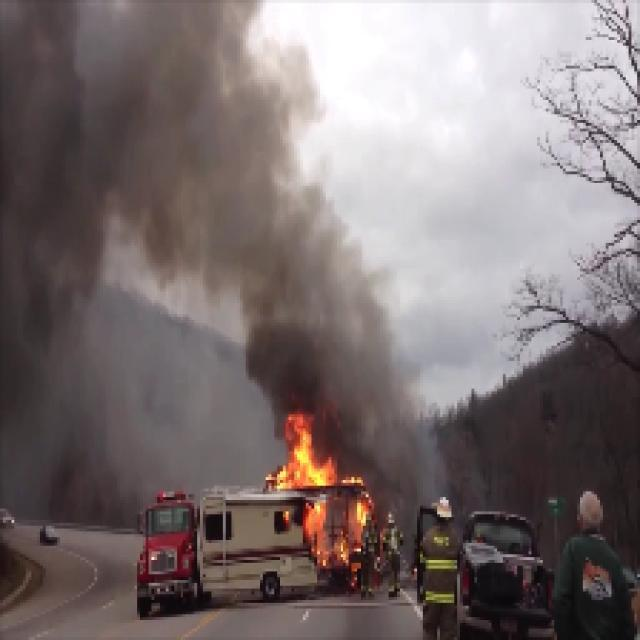Fire: (270, 419, 374, 577)
Smoke: (2, 1, 268, 391), (274, 114, 384, 412)
